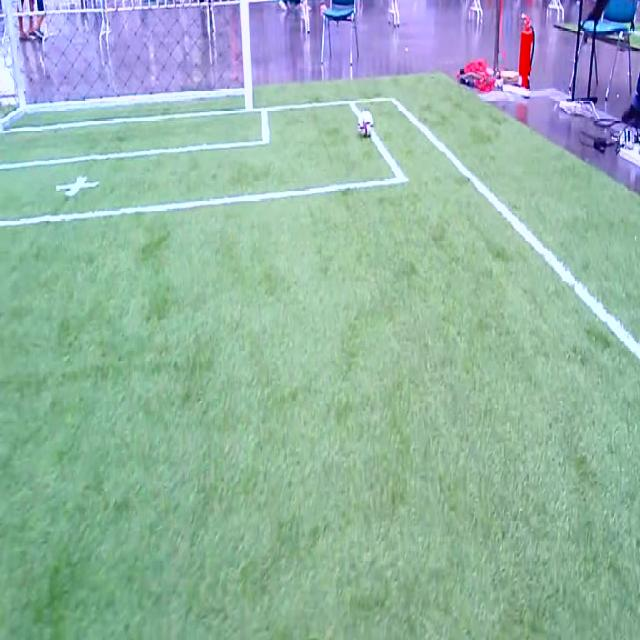ball: (357, 110, 374, 137)
